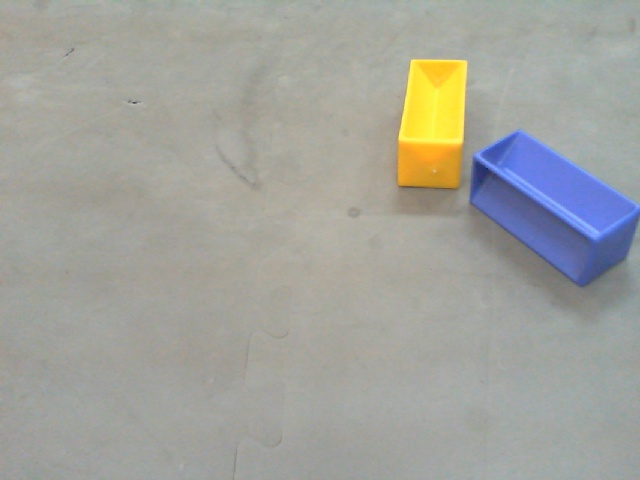BlueSample: (469, 128, 638, 291)
YellowSample: (395, 57, 470, 189)
